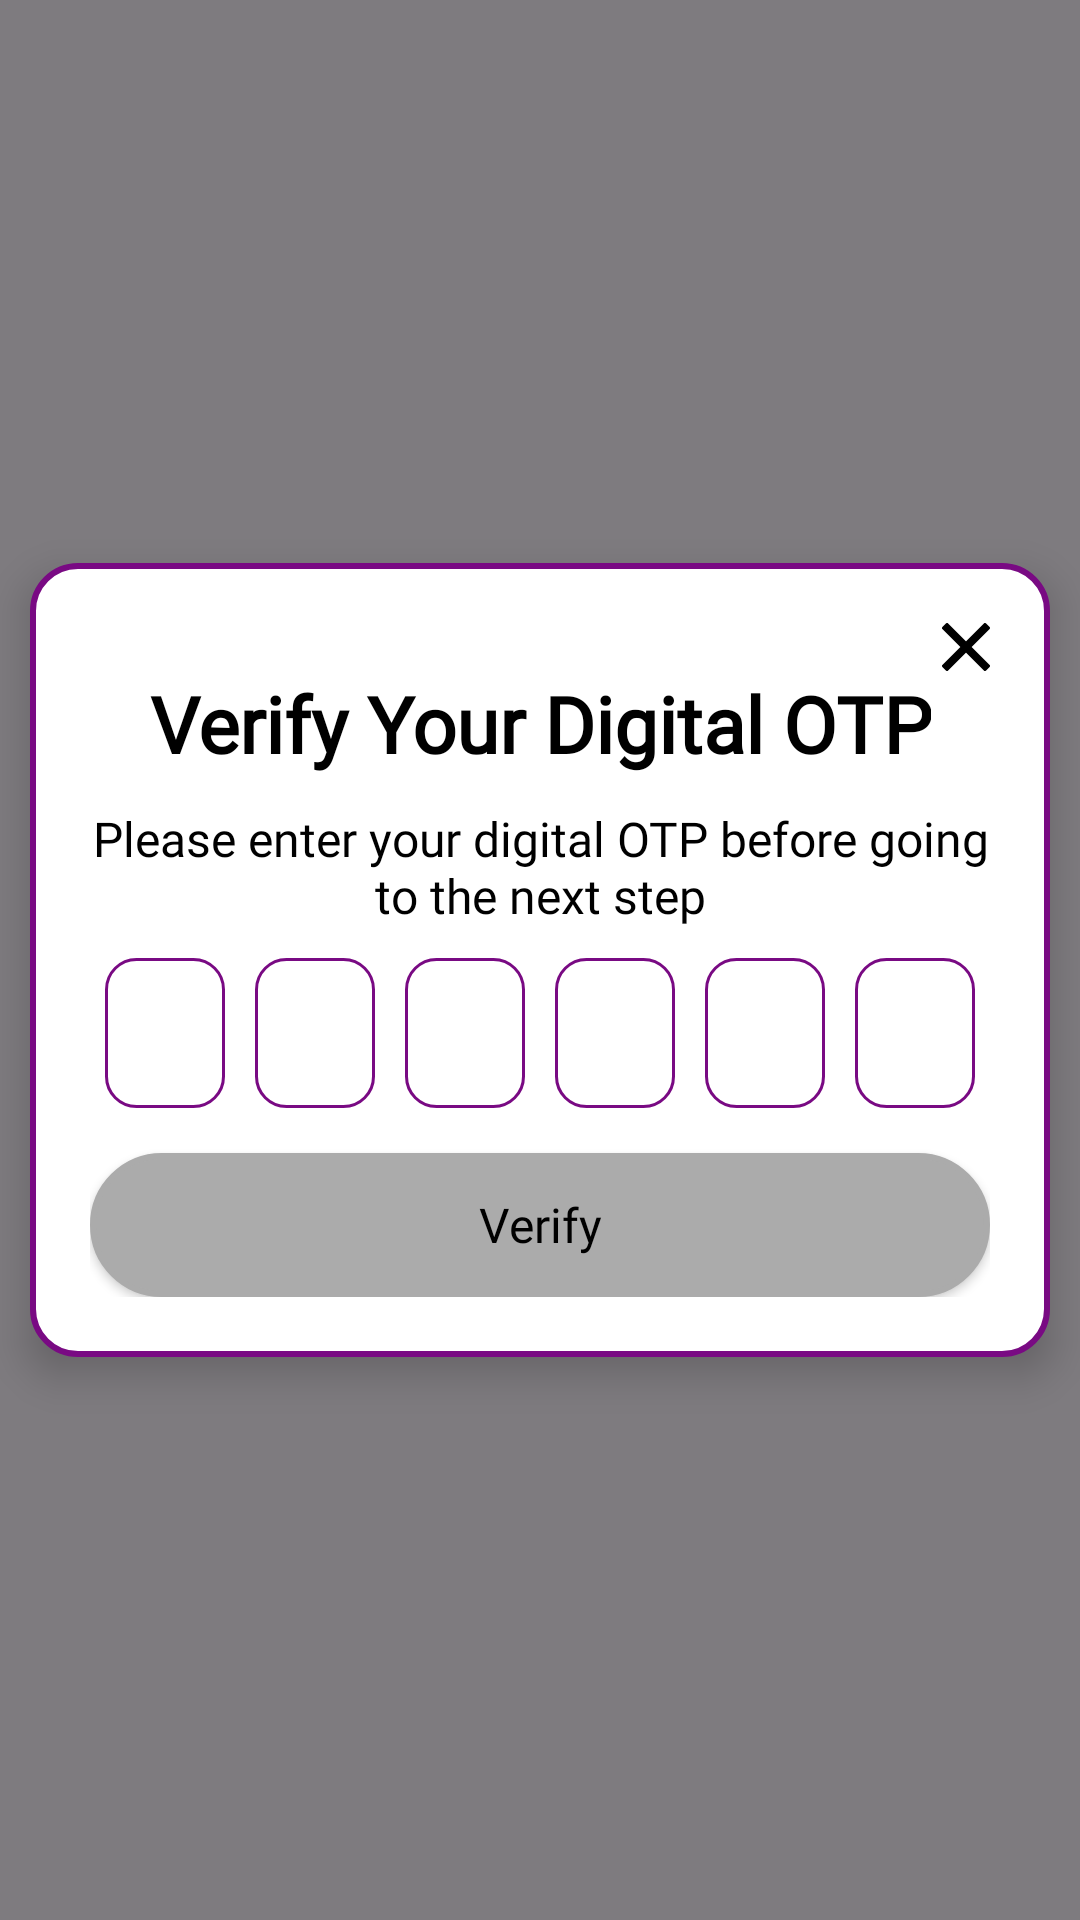

Named icons in this screenshot (1080*1920) and their centers, [x,y]:
quit: [966,647]
